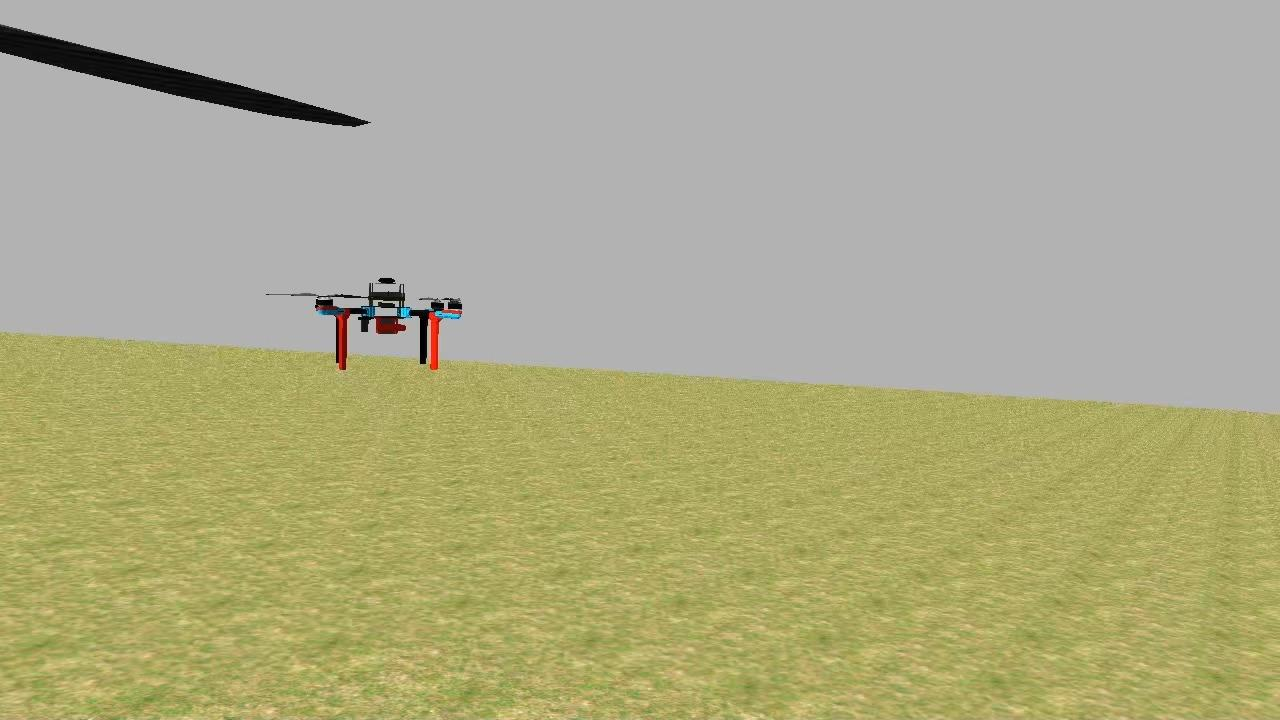UAV: (308, 274, 470, 372)
